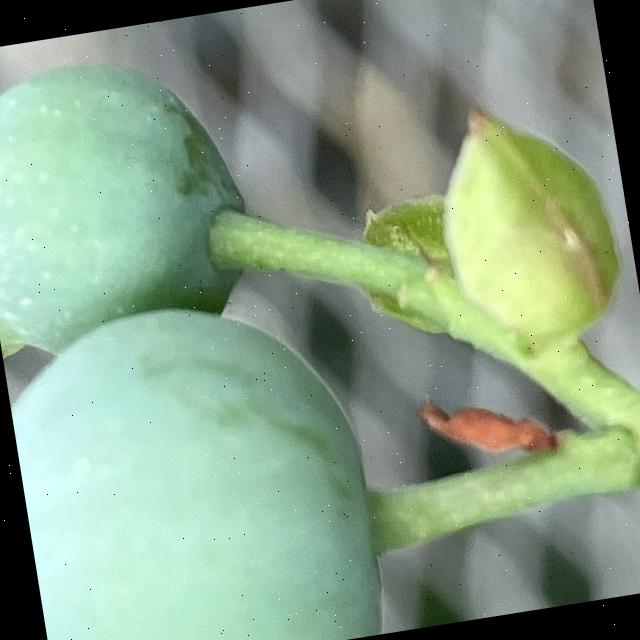Blueberries: (0, 276, 395, 640), (0, 36, 266, 391)
